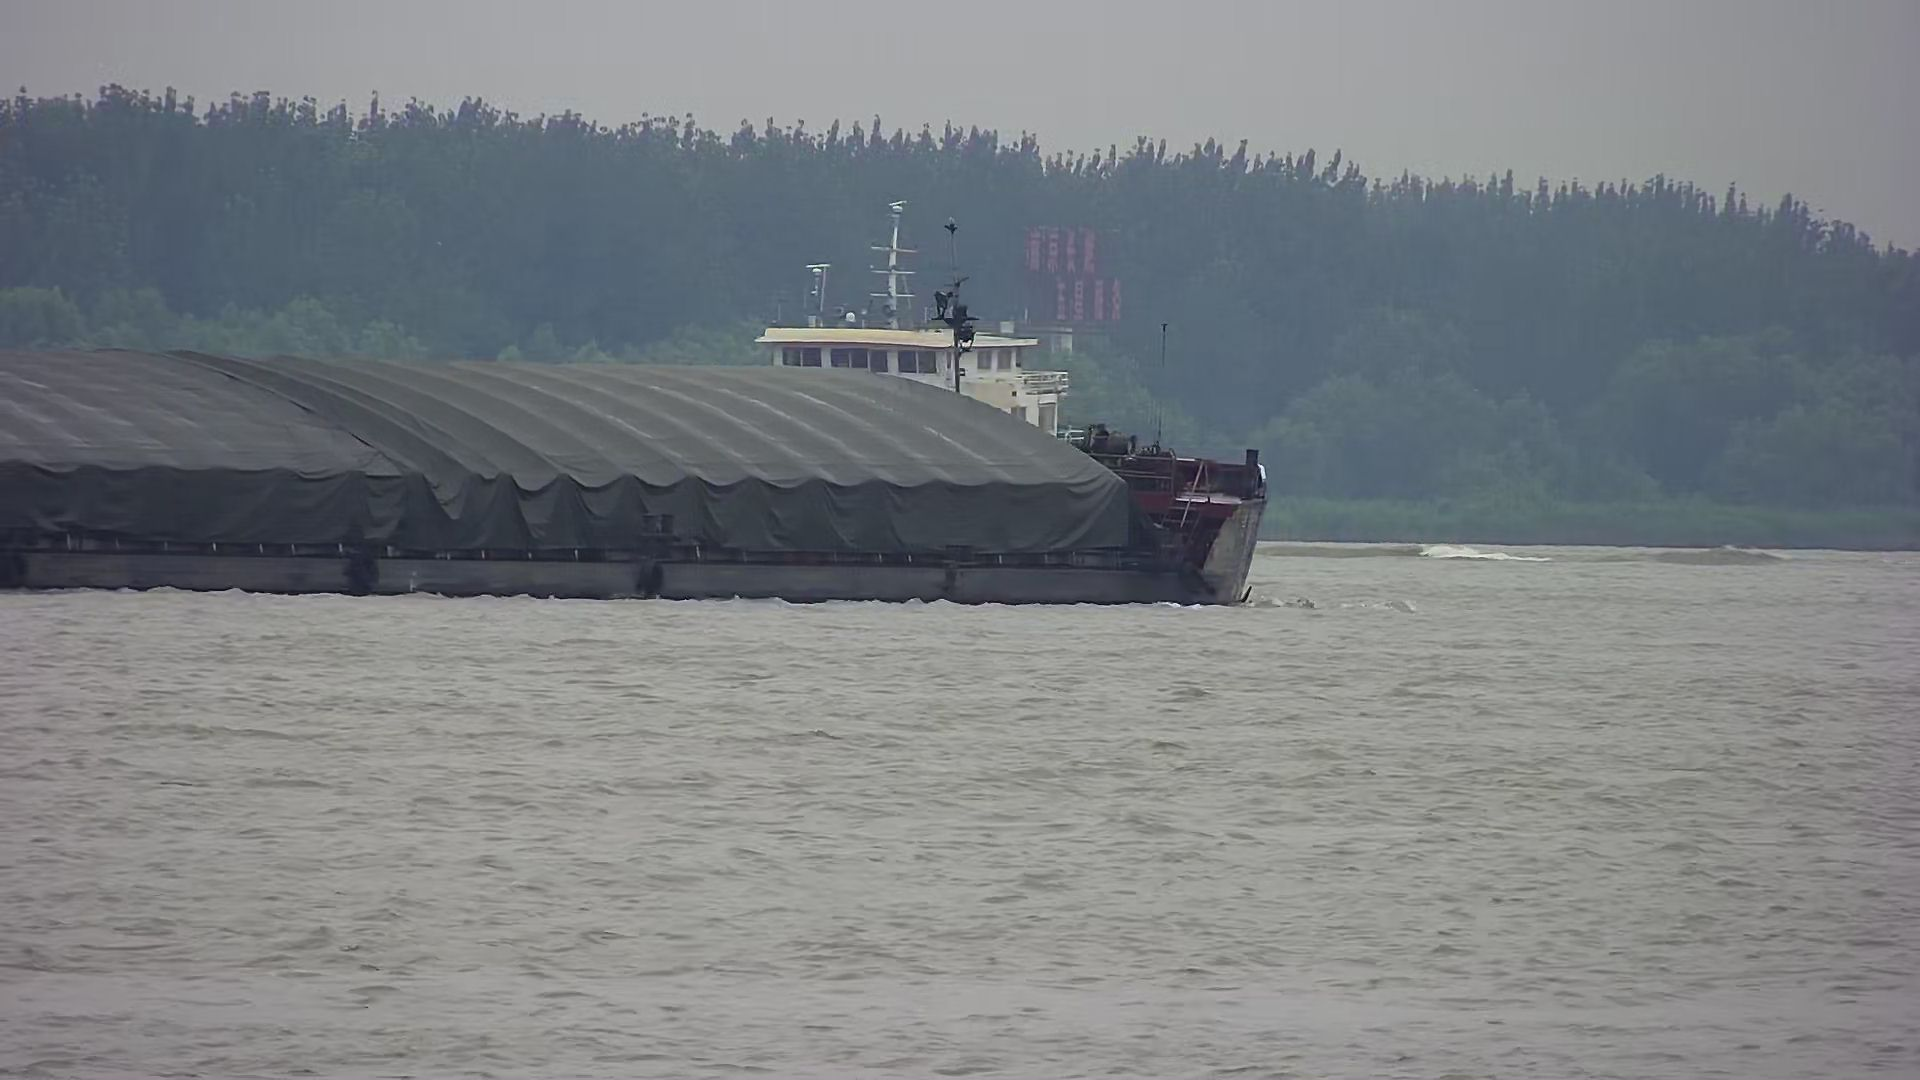ship: (1, 245, 1265, 607)
